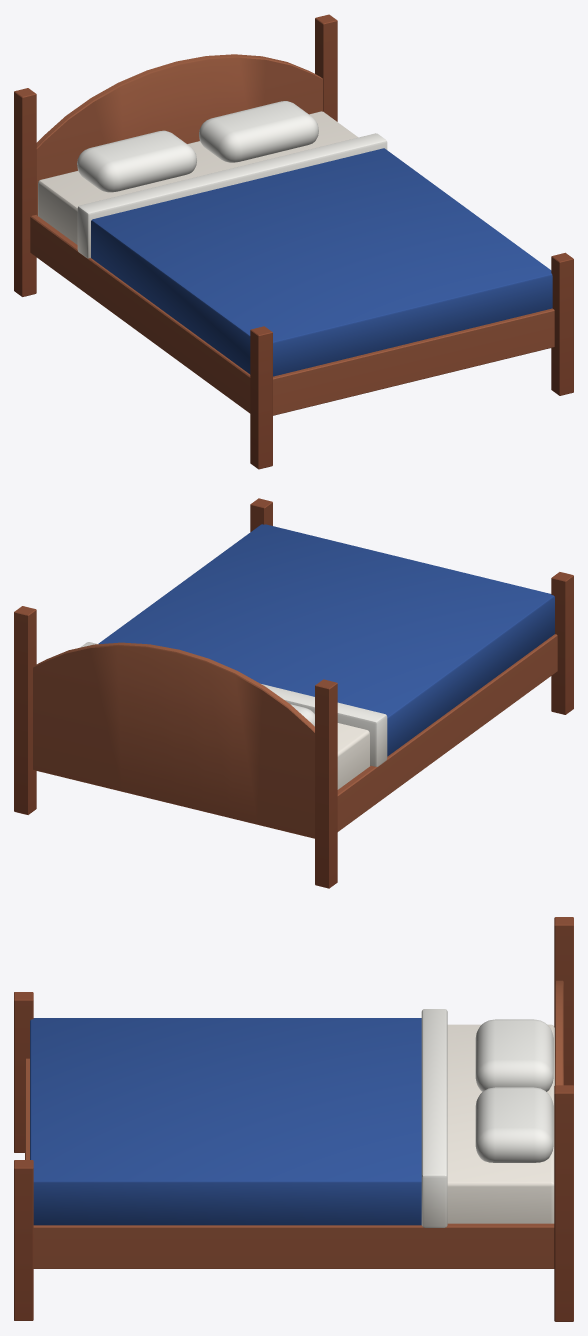
Rendered from DoubleBedBlue.glb.
3 renders of one model, top to bottom at view 1: azimuth 30°, elevation 25°; view 2: azimuth 150°, elevation 25°; view 3: azimuth 270°, elevation 25°, orthographic. The views are drawn at different scales.
Visible parts, largest first — view 1: DoubleBedBlue; view 2: DoubleBedBlue; view 3: DoubleBedBlue.
Boxes of the visible parts, x1,y1,x2,y2 form: DoubleBedBlue: (14,14,573,469); DoubleBedBlue: (14,498,573,888); DoubleBedBlue: (14,917,573,1321).
Size of the model in its own units: 1.6 by 0.9694 by 2.15.
1 material, 1 textured.
